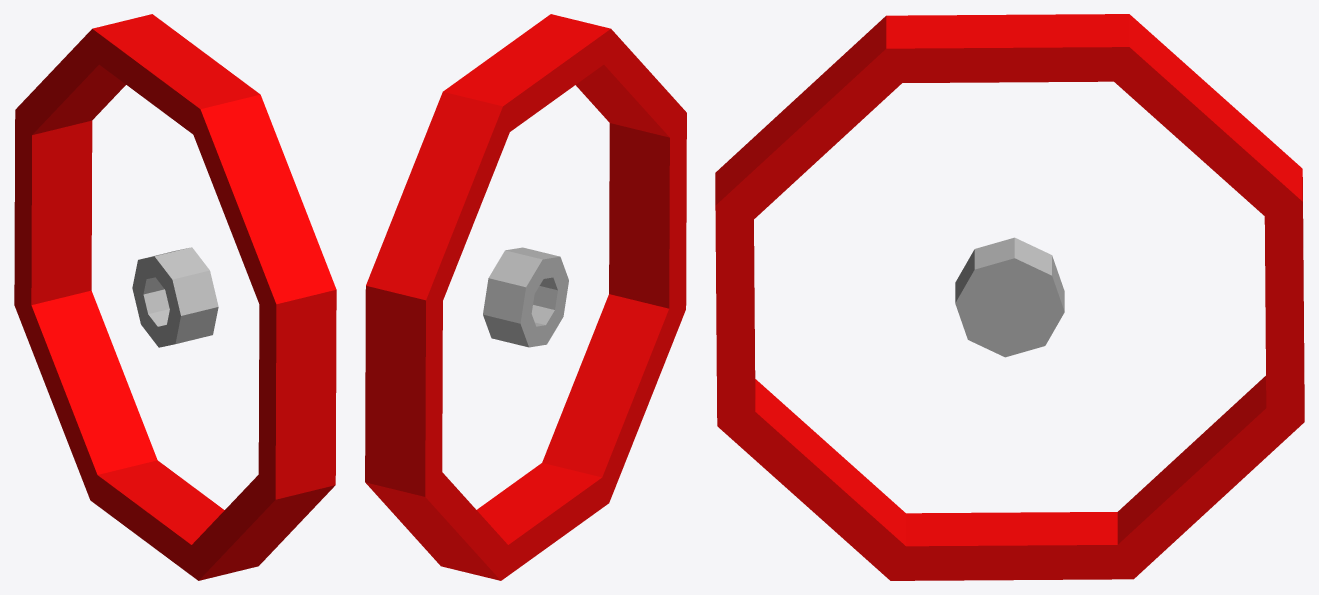
Rendered from red-valve-shallow.dae.
3 renders of one model, left to right at view 1: azimuth 30°, elevation 25°; view 2: azimuth 150°, elevation 25°; view 3: azimuth 270°, elevation 25°, orthographic. The views are drawn at different scales.
Visible parts, largest first — view 1: skp2C7F (×4); view 2: skp2C7F (×4); view 3: skp2C7F (×4).
Boxes of the visible parts, x1,y1,x2,y2 form: skp2C7F (×4): (14,14,336,580); skp2C7F (×4): (365,14,686,580); skp2C7F (×4): (715,14,1304,580).
Bounding box in the file's own units: 0.4468 × 3.36 × 3.36.
